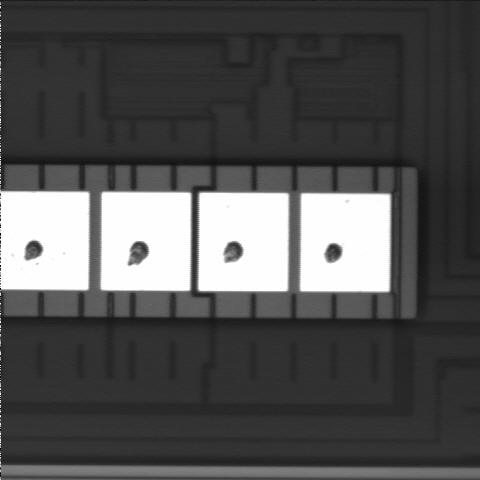pad: (198, 193, 289, 291), (101, 192, 191, 291), (300, 193, 390, 292)
